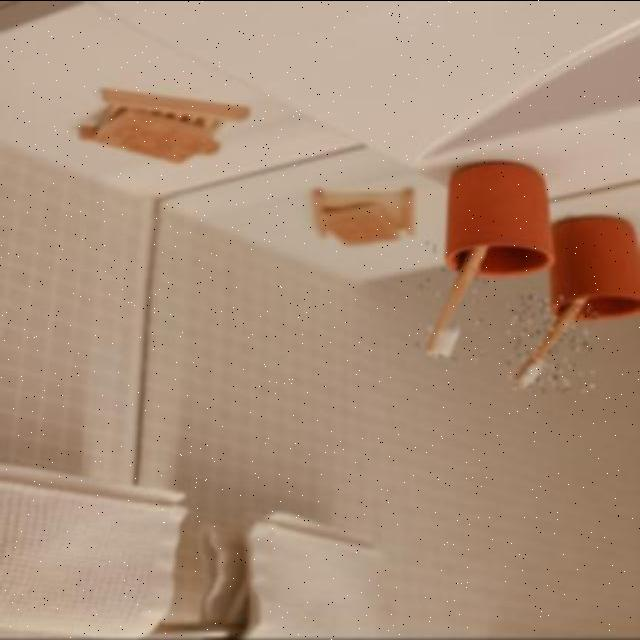toothbrush: (418, 242, 490, 366), (508, 296, 596, 392)
